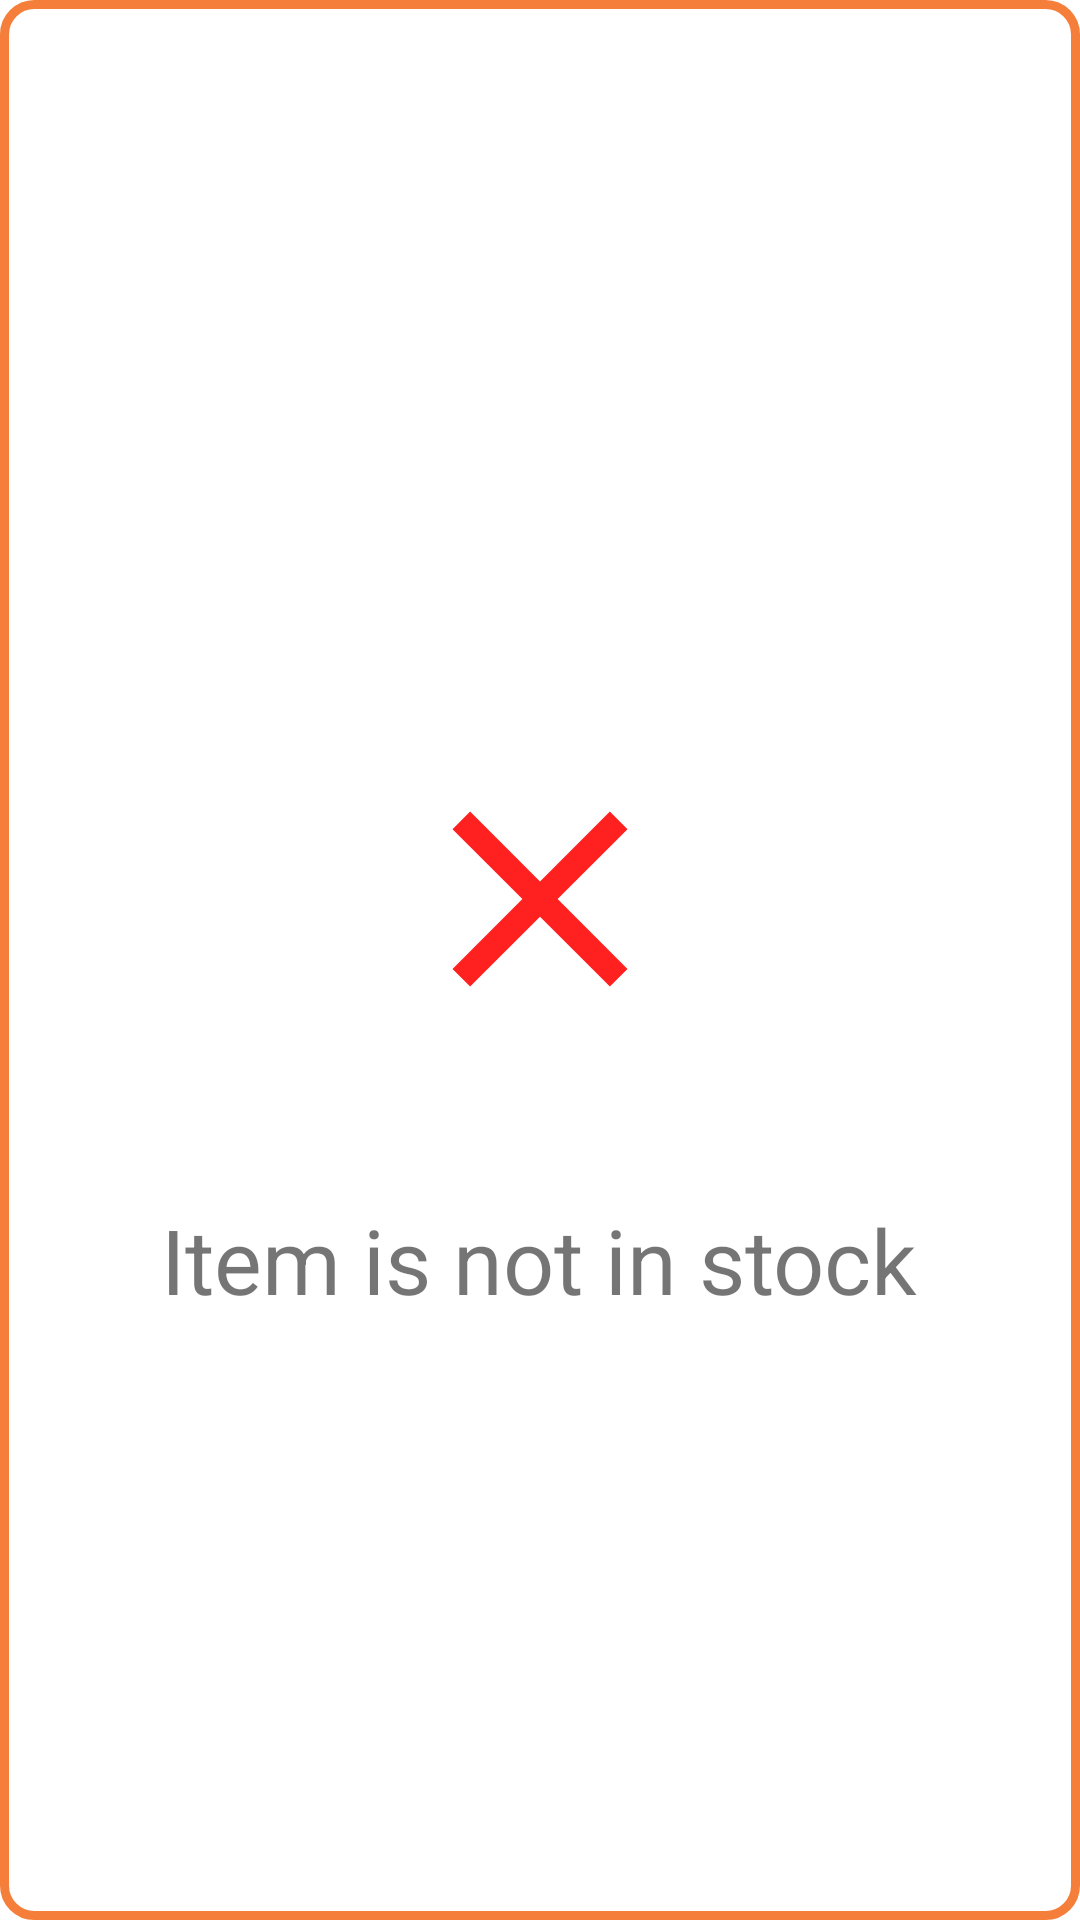

Icons on this 1080w x 1920h Android screen, each with its box as (x1, y1, x2, y2):
close: (452, 811, 628, 987)
